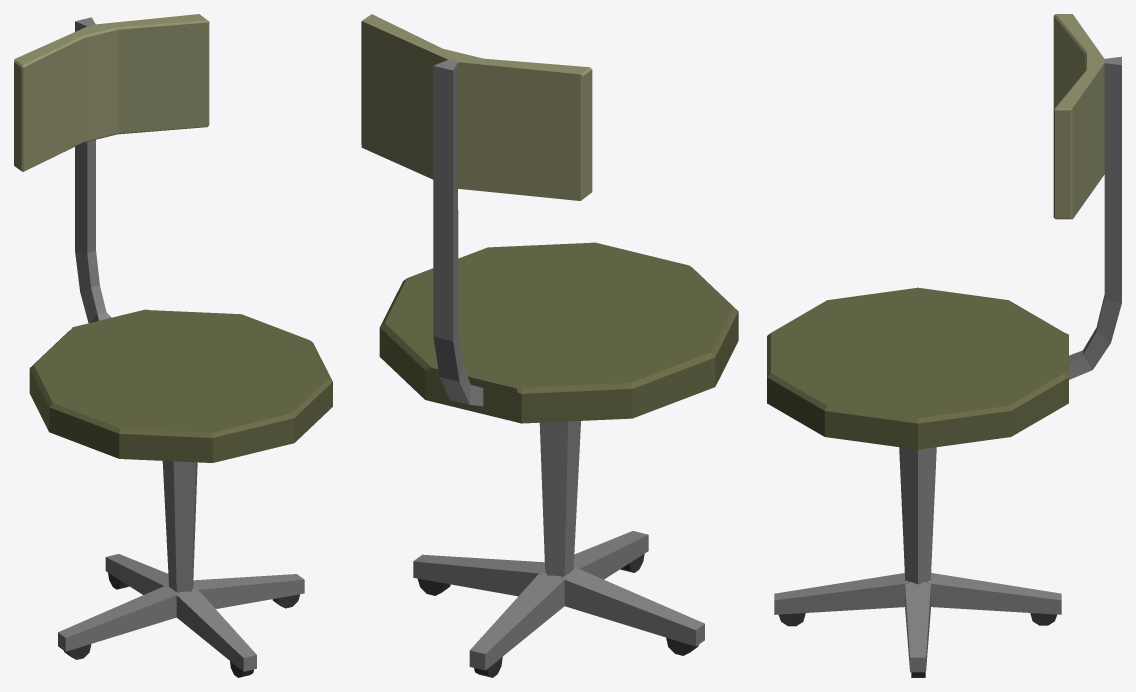
Rendered from model_desk_chair_01.fbx.
The picture shows the model from 3 angles, left to right: view 1: azimuth 30°, elevation 25°; view 2: azimuth 150°, elevation 25°; view 3: azimuth 270°, elevation 25°; orthographic projection. The views are drawn at different scales.
Parts seen in each view (by area): view 1: model_desk_chair_01; view 2: model_desk_chair_01; view 3: model_desk_chair_01.
Part boxes in pixels (<box>): model_desk_chair_01: <box>14,14,332,677</box>; model_desk_chair_01: <box>361,14,738,677</box>; model_desk_chair_01: <box>767,14,1121,677</box>.
Bounding box in the file's own units: 77.72 × 152 × 86.9.
1 material, 1 textured.
